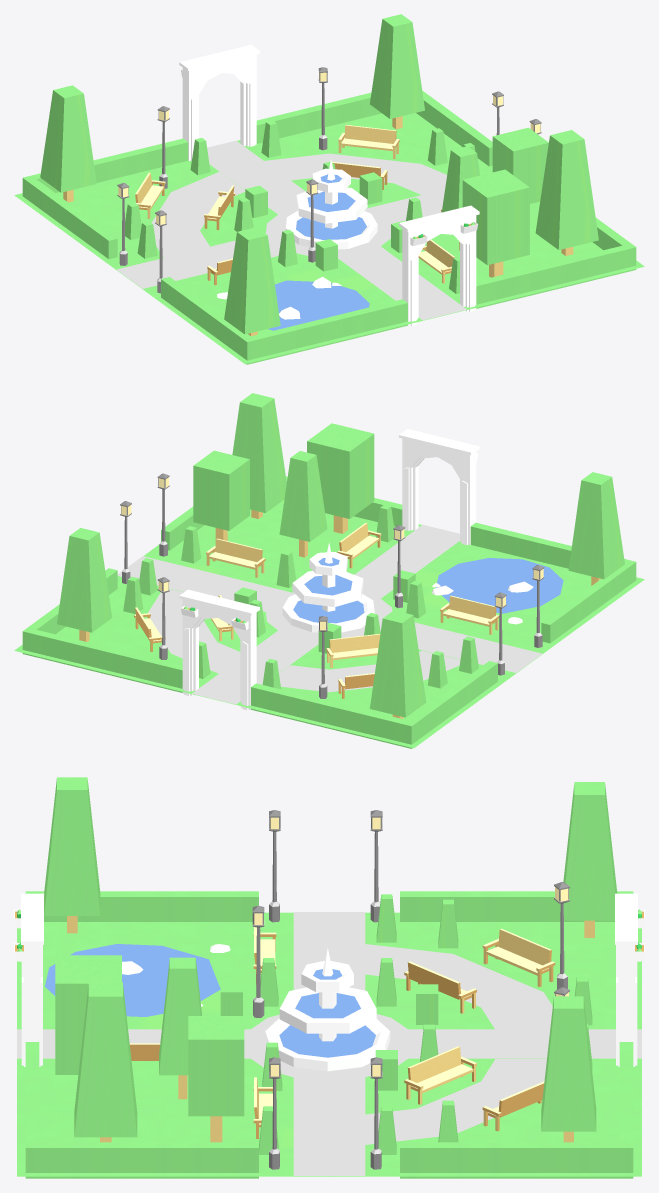
File: park.001.glb
3 renders of one model, top to bottom at view 1: azimuth 30°, elevation 25°; view 2: azimuth 150°, elevation 25°; view 3: azimuth 270°, elevation 25°, orthographic. The views are drawn at different scales.
Parts seen in each view (by area): view 1: park.001(Clone); view 2: park.001(Clone); view 3: park.001(Clone).
Part boxes in pixels (x1,y1,x2,y2): park.001(Clone): (14,14,644,364); park.001(Clone): (14,393,644,748); park.001(Clone): (14,777,644,1178).
Size of the model in its own units: 16 by 5.13 by 16.16.
Materials: 1 (1 with a texture image).
